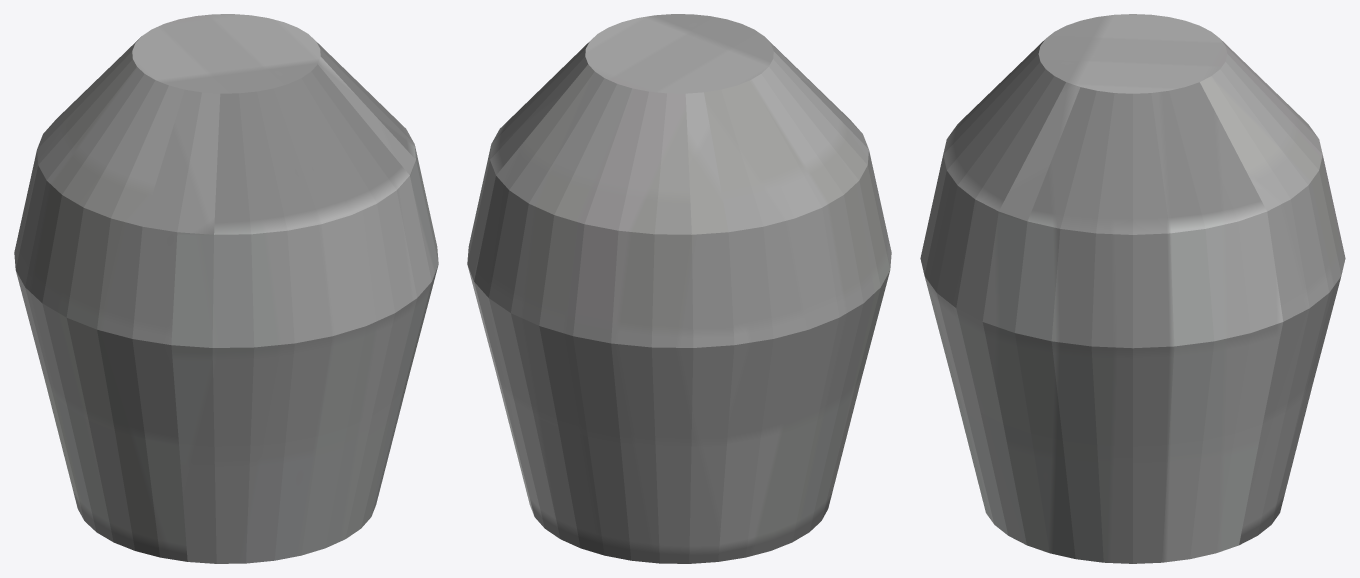
File: background .fbx
3 renders of one model, left to right at view 1: azimuth 30°, elevation 25°; view 2: azimuth 150°, elevation 25°; view 3: azimuth 270°, elevation 25°, orthographic.
Parts seen in each view (by area): view 1: Cylinder; view 2: Cylinder; view 3: Cylinder.
Boxes of the visible parts, x1,y1,x2,y2 form: Cylinder: (14, 14, 438, 563); Cylinder: (467, 14, 891, 563); Cylinder: (920, 14, 1345, 563).
Size of the model in its own units: 1880 by 2180 by 1880.
